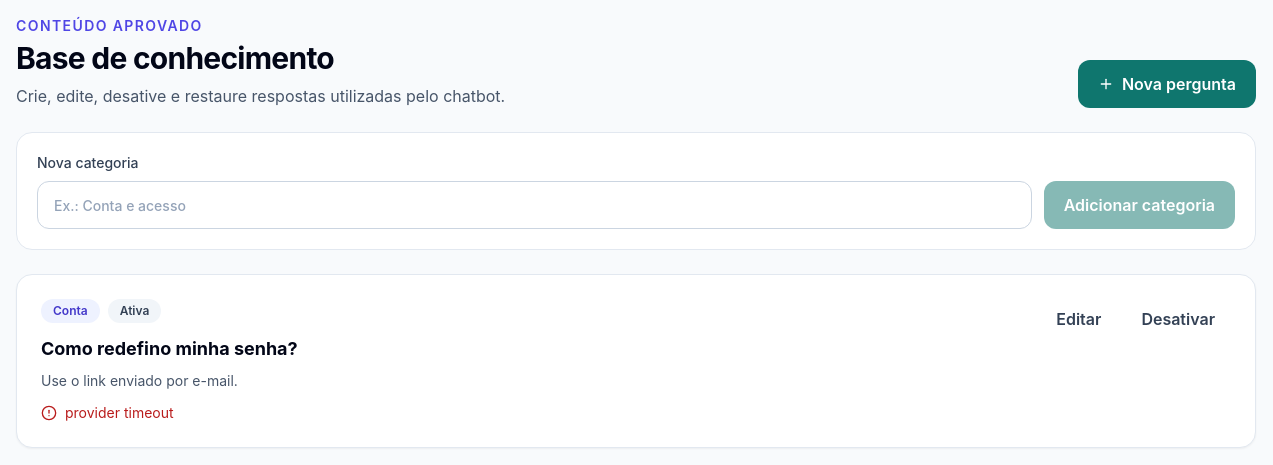
Test: FAQ administration › soft-deactivates and offers restoration
Click the button "Desativar".
click(1178, 319)  # box [1125, 299, 1231, 339]
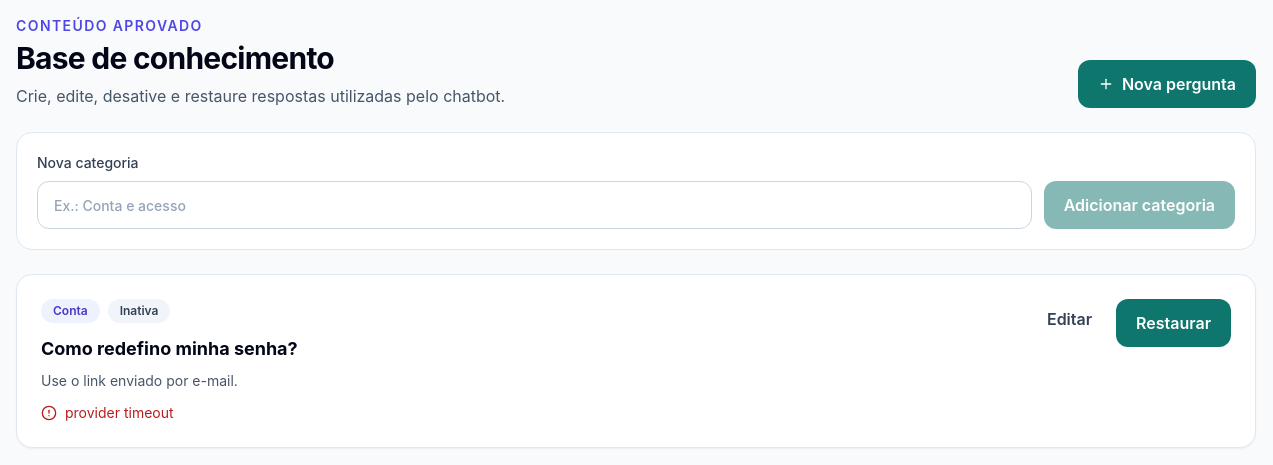
Expected: the button "Restaurar" is shown, [1116, 299, 1231, 347]
